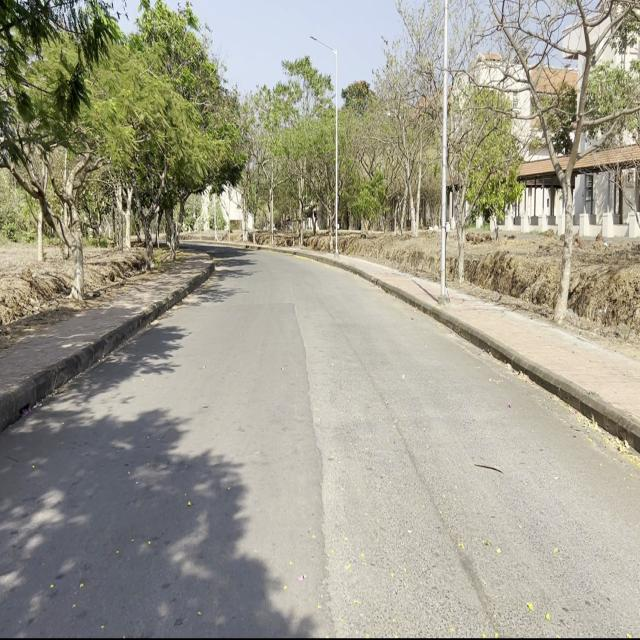Road: (0, 252, 638, 639)
